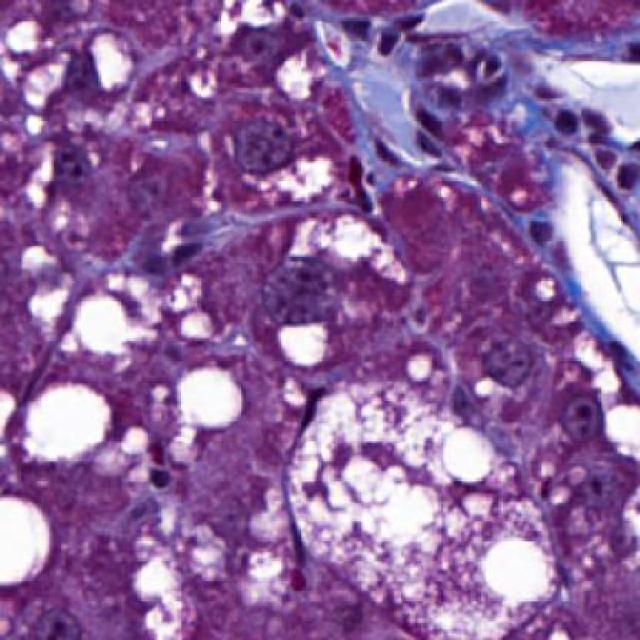ballooning: (284, 374, 560, 636)
